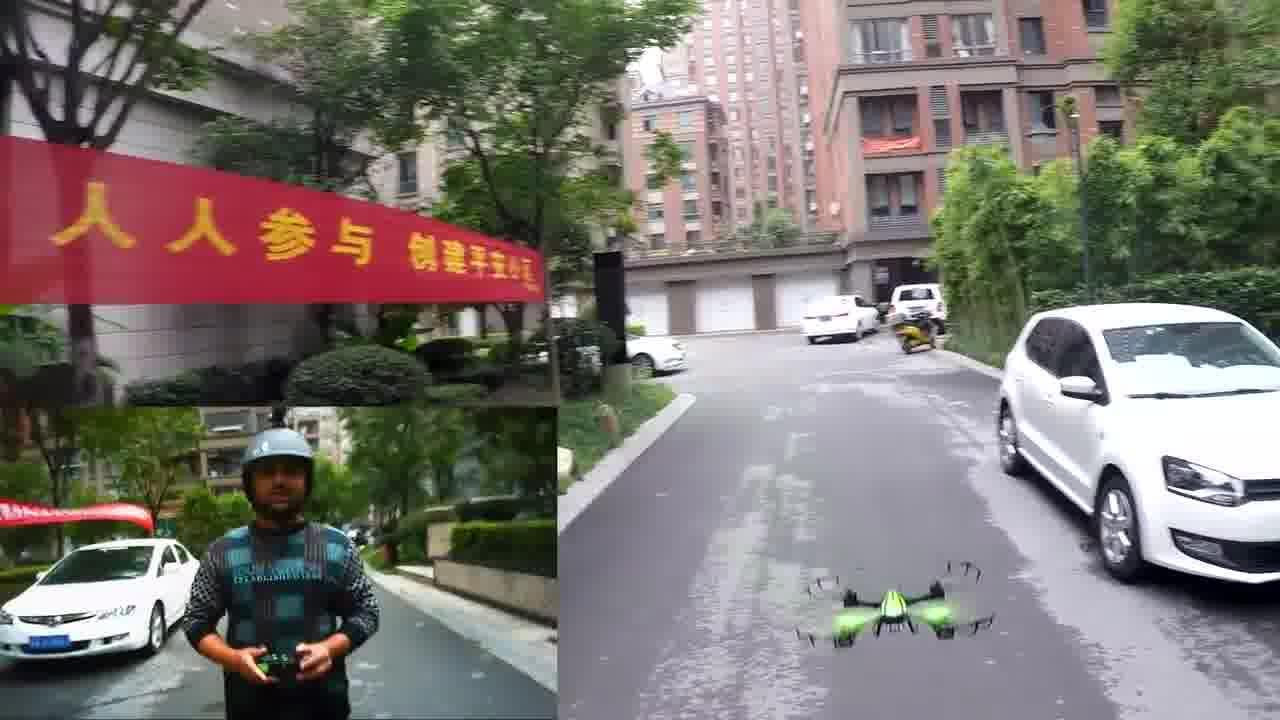drone: (772, 561, 1007, 650)
